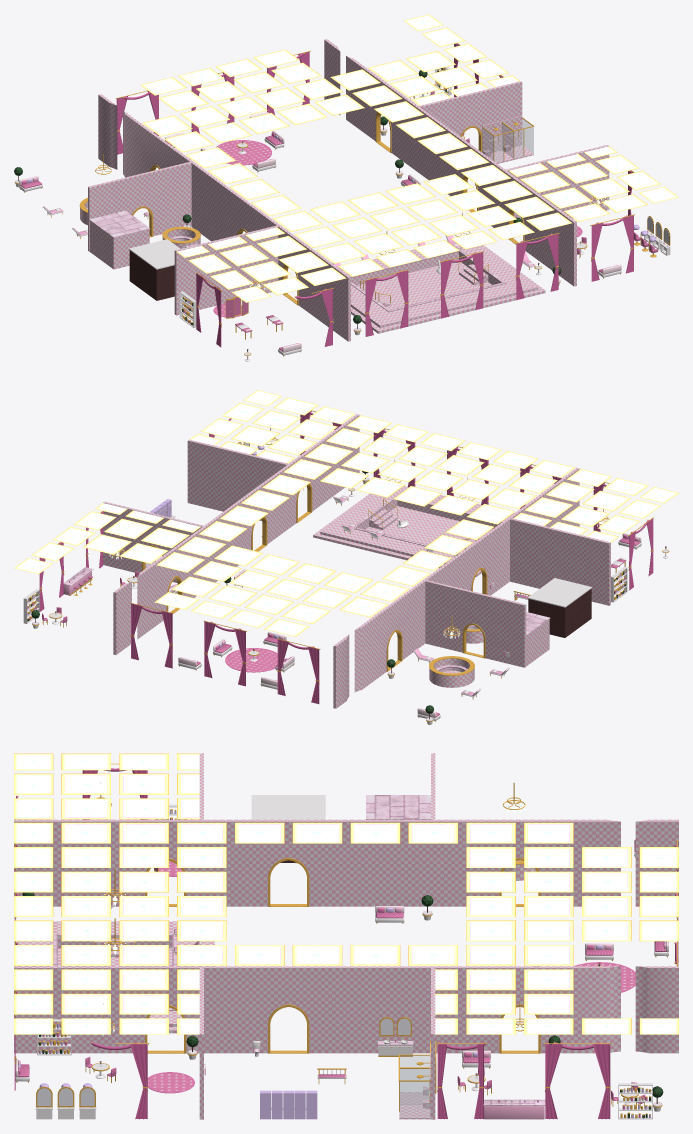
Rendered from citadel_floor2.glb.
The picture shows the model from 3 angles, top to bottom: view 1: azimuth 30°, elevation 25°; view 2: azimuth 150°, elevation 25°; view 3: azimuth 270°, elevation 25°; orthographic projection. The views are drawn at different scales.
Visible parts, largest first — view 1: floor2_sky_cards, floor2_tile, floor2_drape, floor2_gold, floor2_white_wood, floor2_trim, floor2_bark, floor2_glass_clear, floor2_tufted, floor2_carpet, floor2_satin_blush, floor2_hedge; view 2: floor2_sky_cards, floor2_tile, floor2_drape, floor2_gold, floor2_white_wood, floor2_bark, floor2_trim, floor2_carpet, floor2_satin_blush, floor2_satin_pink, floor2_tufted; view 3: floor2_sky_cards, floor2_tile, floor2_white_wood, floor2_gold, floor2_drape, floor2_trim, floor2_satin_lilac, floor2_glass_clear, floor2_carpet, floor2_tufted, floor2_mirror, floor2_satin_pink (+2 smaller).
Part boxes in pixels (<box>): floor2_sky_cards: <box>140,14,678,302</box>; floor2_tile: <box>80,39,609,341</box>; floor2_drape: <box>116,43,633,347</box>; floor2_gold: <box>14,43,670,356</box>; floor2_white_wood: <box>15,66,670,361</box>; floor2_trim: <box>87,208,506,312</box>; floor2_bark: <box>18,125,399,329</box>; floor2_glass_clear: <box>242,119,667,353</box>; floor2_tufted: <box>20,91,658,351</box>; floor2_carpet: <box>214,140,581,316</box>; floor2_satin_blush: <box>19,112,621,352</box>; floor2_hedge: <box>14,68,580,351</box>; floor2_sky_cards: <box>14,390,678,636</box>; floor2_tile: <box>103,414,610,708</box>; floor2_drape: <box>39,411,653,703</box>; floor2_gold: <box>27,410,669,721</box>; floor2_white_wood: <box>23,477,668,724</box>; floor2_bark: <box>35,473,591,719</box>; floor2_trim: <box>63,495,550,672</box>; floor2_carpet: <box>226,648,277,671</box>; floor2_satin_blush: <box>27,533,641,717</box>; floor2_satin_pink: <box>32,477,638,720</box>; floor2_tufted: <box>42,538,640,716</box>; floor2_sky_cards: <box>14,753,678,1034</box>; floor2_tile: <box>14,753,678,1119</box>; floor2_white_wood: <box>15,795,668,1119</box>; floor2_gold: <box>14,763,678,1118</box>; floor2_drape: <box>14,768,678,1119</box>; floor2_trim: <box>53,795,545,1105</box>; floor2_satin_lilac: <box>18,809,665,1119</box>; floor2_glass_clear: <box>100,1040,477,1117</box>; floor2_carpet: <box>147,861,635,1092</box>; floor2_tufted: <box>18,839,666,1103</box>; floor2_mirror: <box>37,1018,410,1105</box>; floor2_satin_pink: <box>18,902,665,1119</box>.
Size of the model in its own units: 46.06 by 7 by 46.
21 materials, 9 textured.
